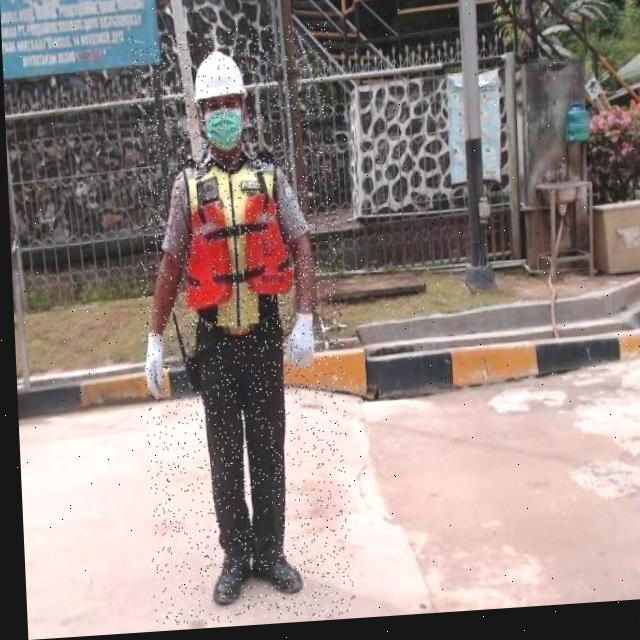Gloves: (282, 316, 312, 373), (140, 334, 163, 402)
Helmet: (190, 52, 247, 105)
Safety-Boot: (204, 552, 246, 608), (245, 555, 297, 598)
Safety-Vest: (176, 155, 292, 327)
